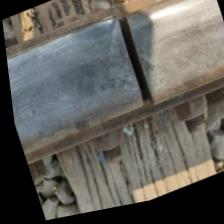person: (62, 0, 201, 138)
